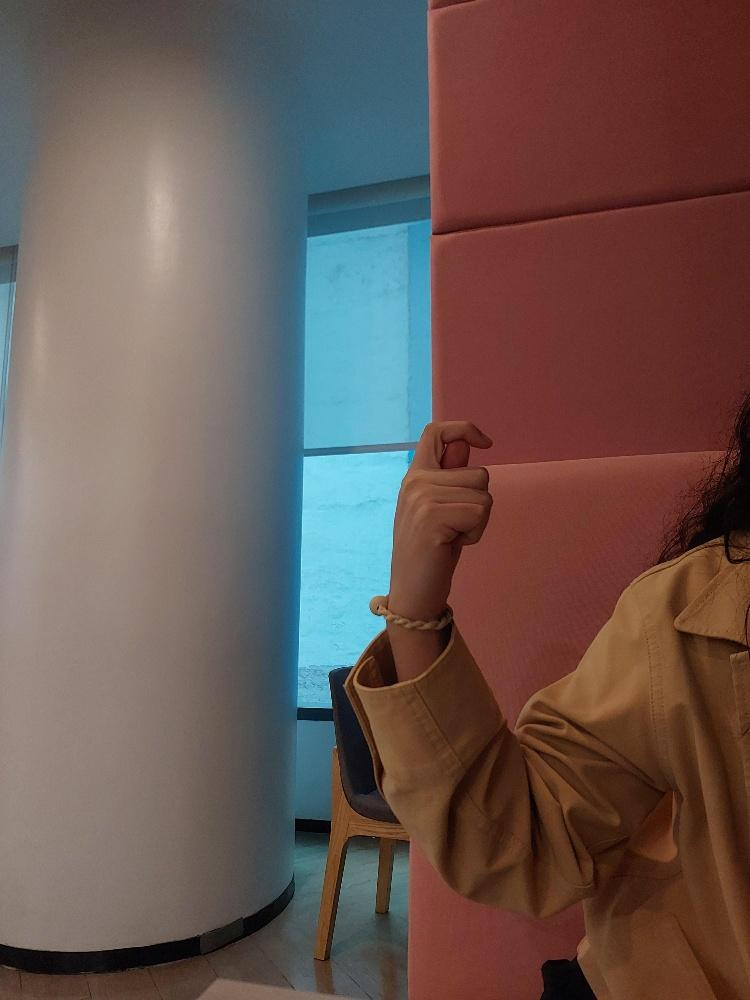t: (382, 407, 498, 627)
